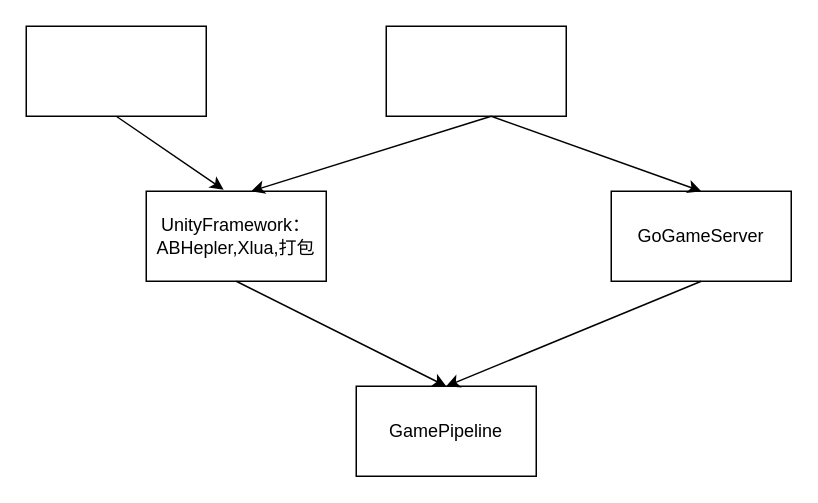
The diagram is 818 pixels wide and 503 high, and some of its shapes have lost their labels. The shapes that lost their labels are listed below. From the top down, each one's centre as x and y in pixels, then its label:
At (x=115, y=70): "CustomBuildPipeline: SDK".
At (x=475, y=70): "Common：PB".
